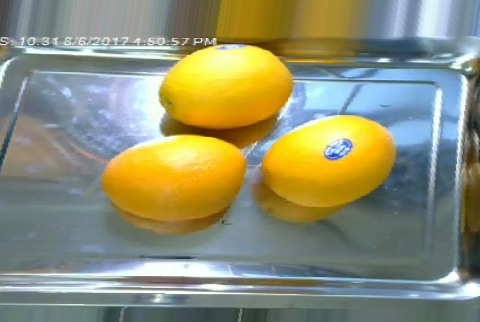Orange: (261, 114, 396, 209), (103, 133, 246, 220), (159, 43, 295, 130)
